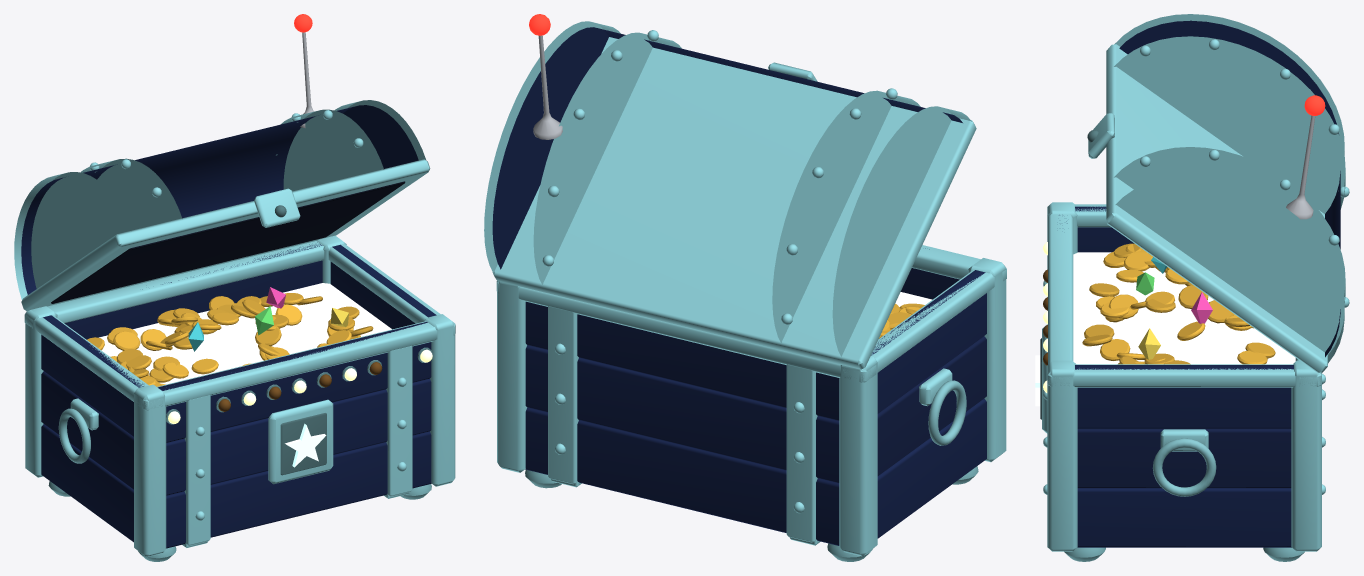
Rendered from loot_box_platinum.glb.
The picture shows the model from 3 angles, left to right: view 1: azimuth 30°, elevation 25°; view 2: azimuth 150°, elevation 25°; view 3: azimuth 270°, elevation 25°; orthographic projection. The views are drawn at different scales.
Parts seen in each view (by area): view 1: Body, Lid; view 2: Lid, Body; view 3: Body, Lid.
Part boxes in pixels (box(x1,y1,x2,y2)): Body: box(24, 235, 455, 561); Lid: box(14, 14, 430, 310); Lid: box(484, 14, 976, 369); Body: box(496, 245, 1006, 561); Body: box(1035, 202, 1325, 561); Lid: box(1087, 14, 1349, 373).
Bounding box in the file's own units: 1 × 1.15 × 0.7203.
